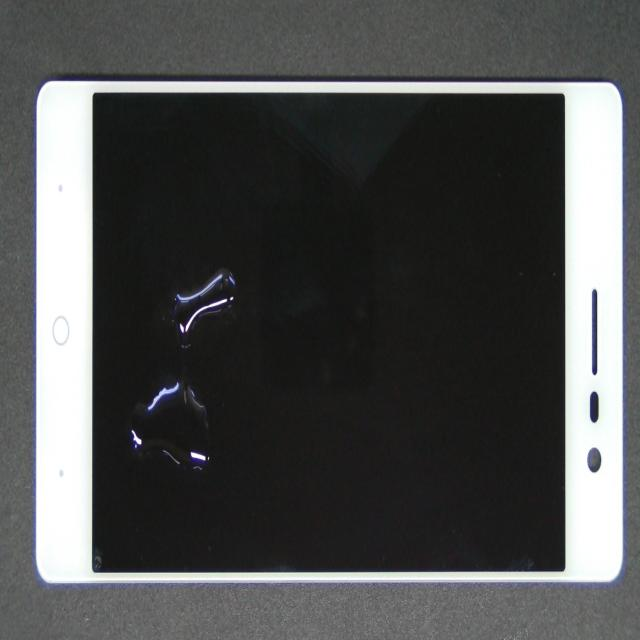oil: (143, 241, 260, 362), (119, 380, 249, 476)
